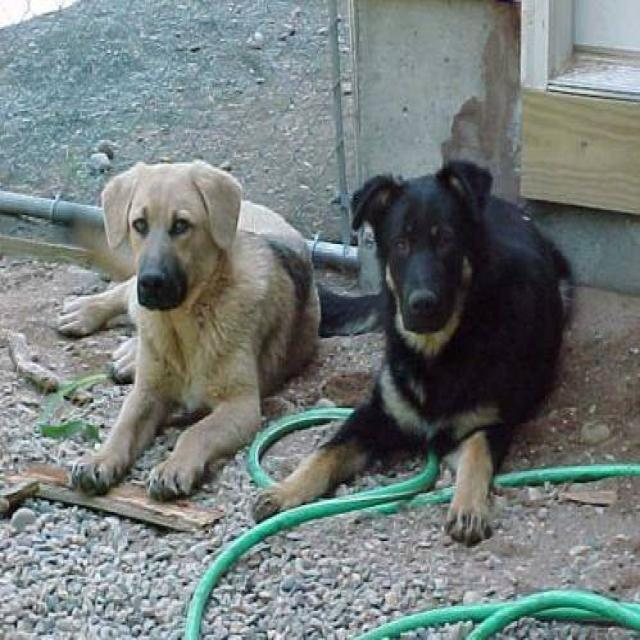dog: (252, 157, 574, 546), (56, 157, 322, 502)
